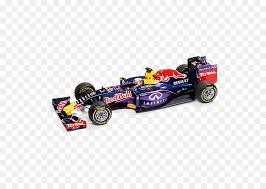FormulaOneCar: (49, 52, 223, 133)
